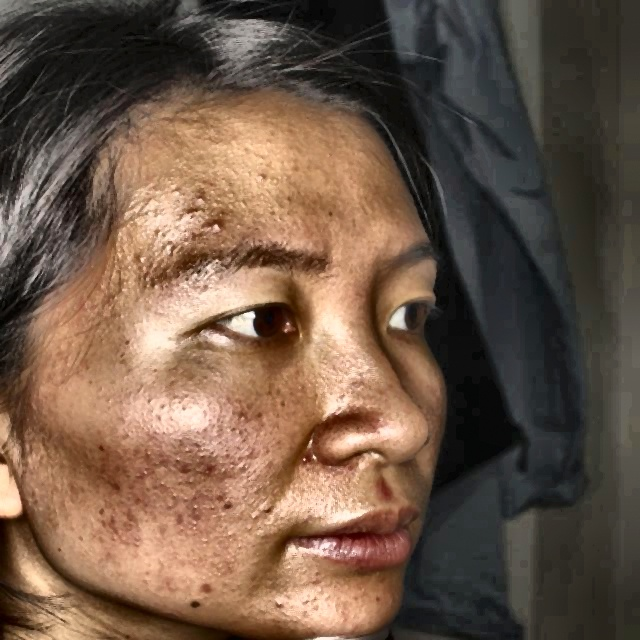comedone: (208, 214, 242, 239), (299, 448, 318, 482)
